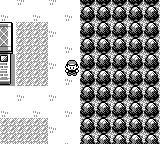main: (65, 60, 79, 76)
no-caminable: (80, 0, 159, 143), (0, 22, 13, 85)
